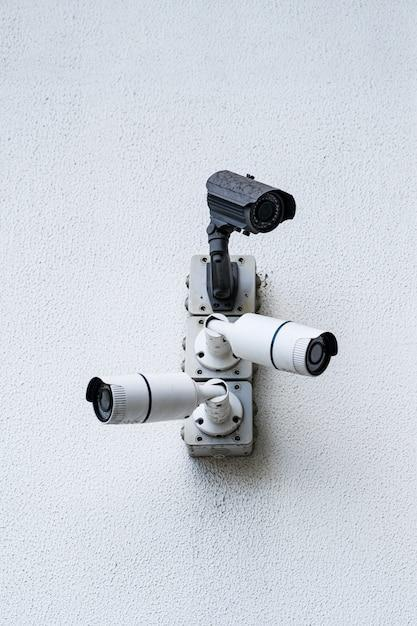camera: (50, 332, 297, 473), (157, 140, 313, 268), (200, 297, 388, 398)
